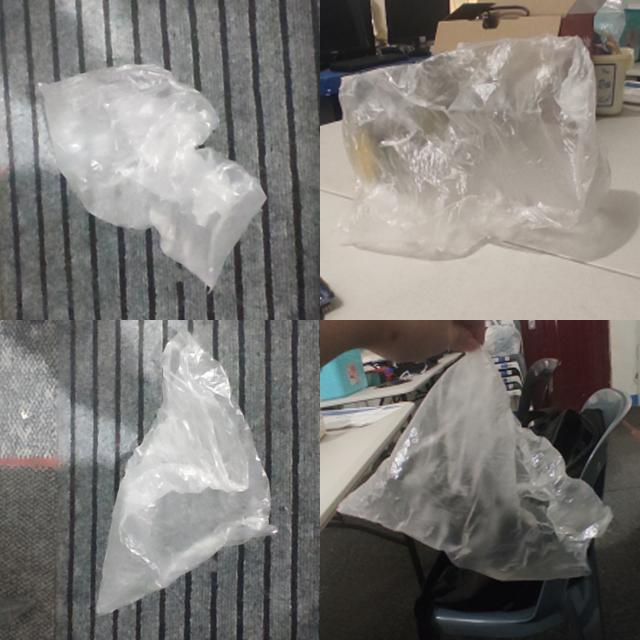Single-layer Plastic: (339, 349, 611, 581), (340, 35, 610, 260), (96, 331, 276, 614), (40, 65, 265, 288)
